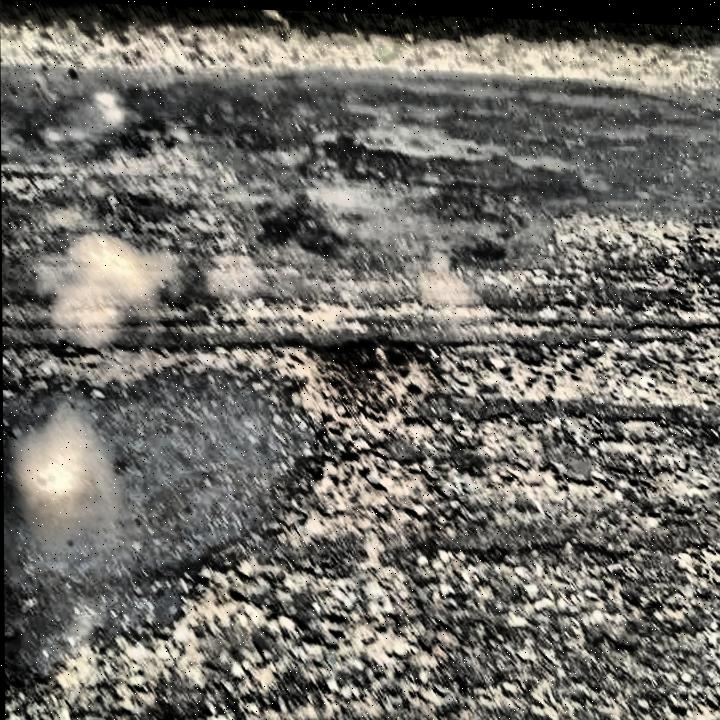pothole: (276, 325, 442, 438)
